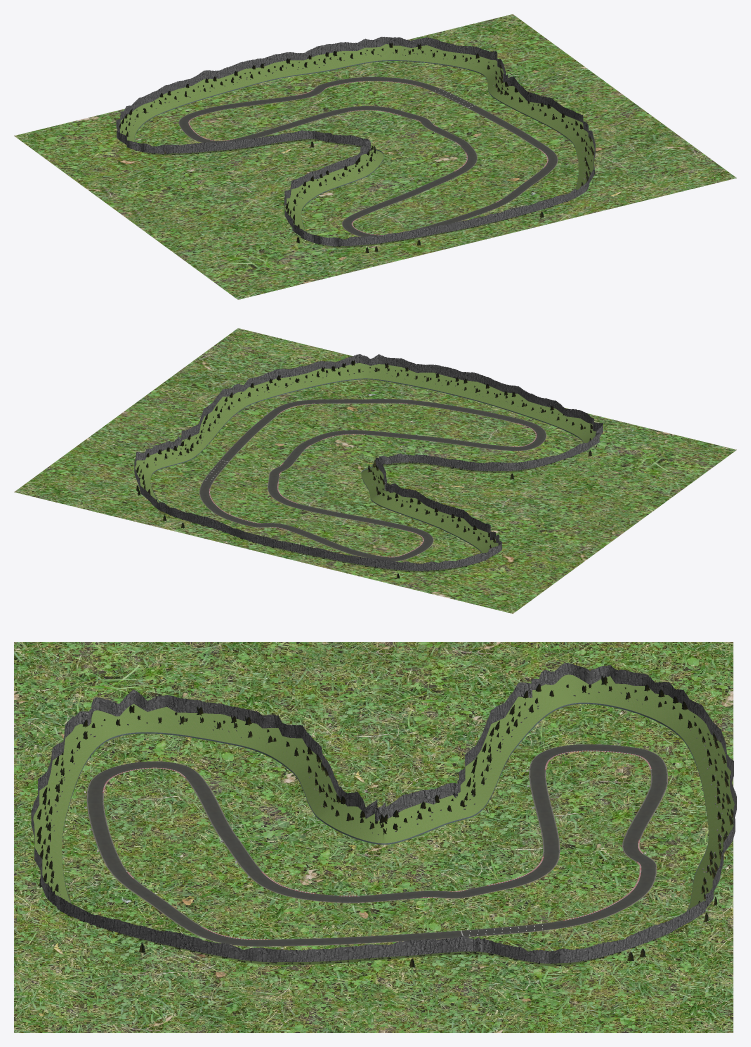
3 renders of one model, top to bottom at view 1: azimuth 30°, elevation 25°; view 2: azimuth 150°, elevation 25°; view 3: azimuth 270°, elevation 25°, orthographic. The views are drawn at different scales.
Visible parts, largest first — view 1: Plane, RaceTrack_Wall_00, RaceTrack_Main_00, RaceTrack_Trees_00; view 2: Plane, RaceTrack_Wall_00, RaceTrack_Main_00, RaceTrack_Trees_00; view 3: Plane, RaceTrack_Wall_00, RaceTrack_Main_00, RaceTrack_Trees_00, RaceTrack_Curbs_00.
Boxes of the visible parts, <box> form: Plane: <box>14,14,736,299</box>; RaceTrack_Wall_00: <box>116,37,595,247</box>; RaceTrack_Main_00: <box>178,77,557,236</box>; RaceTrack_Trees_00: <box>119,43,595,253</box>; Plane: <box>14,328,736,613</box>; RaceTrack_Wall_00: <box>134,354,602,572</box>; RaceTrack_Main_00: <box>199,399,546,561</box>; RaceTrack_Trees_00: <box>136,360,596,578</box>; Plane: <box>14,642,733,1032</box>; RaceTrack_Wall_00: <box>31,663,736,966</box>; RaceTrack_Main_00: <box>86,744,667,946</box>; RaceTrack_Trees_00: <box>37,676,733,967</box>; RaceTrack_Curbs_00: <box>102,750,651,939</box>.
Bounding box in the file's own units: 900 × 35.63 × 704.
